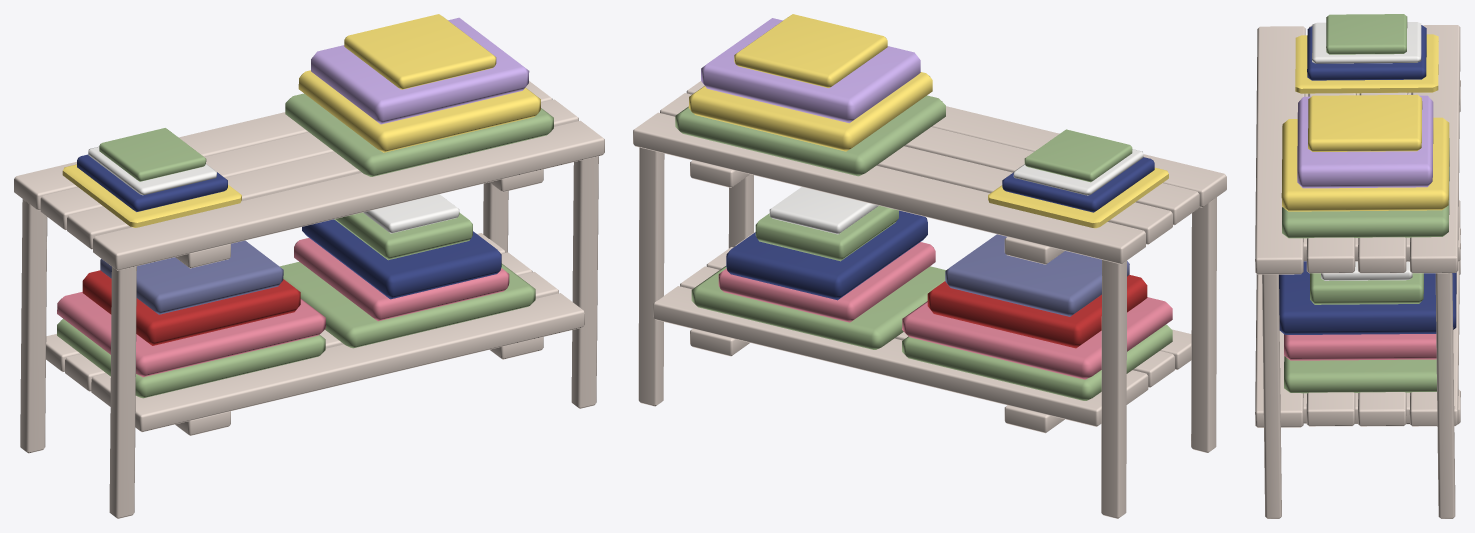
The model's file is Shelf_with_Towels_1.glb.
3 views of the same model, side by side, from view 1: azimuth 30°, elevation 25°; view 2: azimuth 150°, elevation 25°; view 3: azimuth 270°, elevation 25° (orthographic). The views are drawn at different scales.
Visible parts, largest first — view 1: Shelf_with_Towels_1; view 2: Shelf_with_Towels_1; view 3: Shelf_with_Towels_1.
Boxes of the visible parts, left/top/right/bottom form: Shelf_with_Towels_1: left=14, top=14, right=604, bottom=518; Shelf_with_Towels_1: left=633, top=14, right=1226, bottom=518; Shelf_with_Towels_1: left=1255, top=14, right=1460, bottom=518.
Size of the model in its own units: 1.28 by 0.8864 by 0.48.
Materials: 1 (1 with a texture image).
